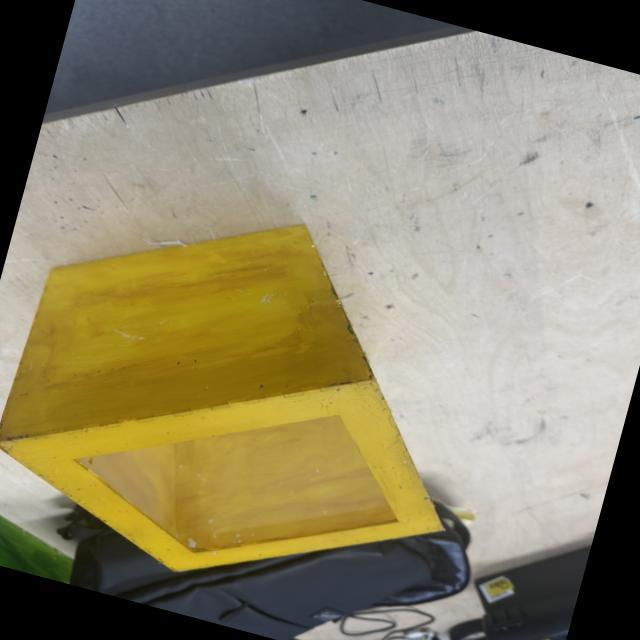yellow_bin: (0, 160, 510, 637)
